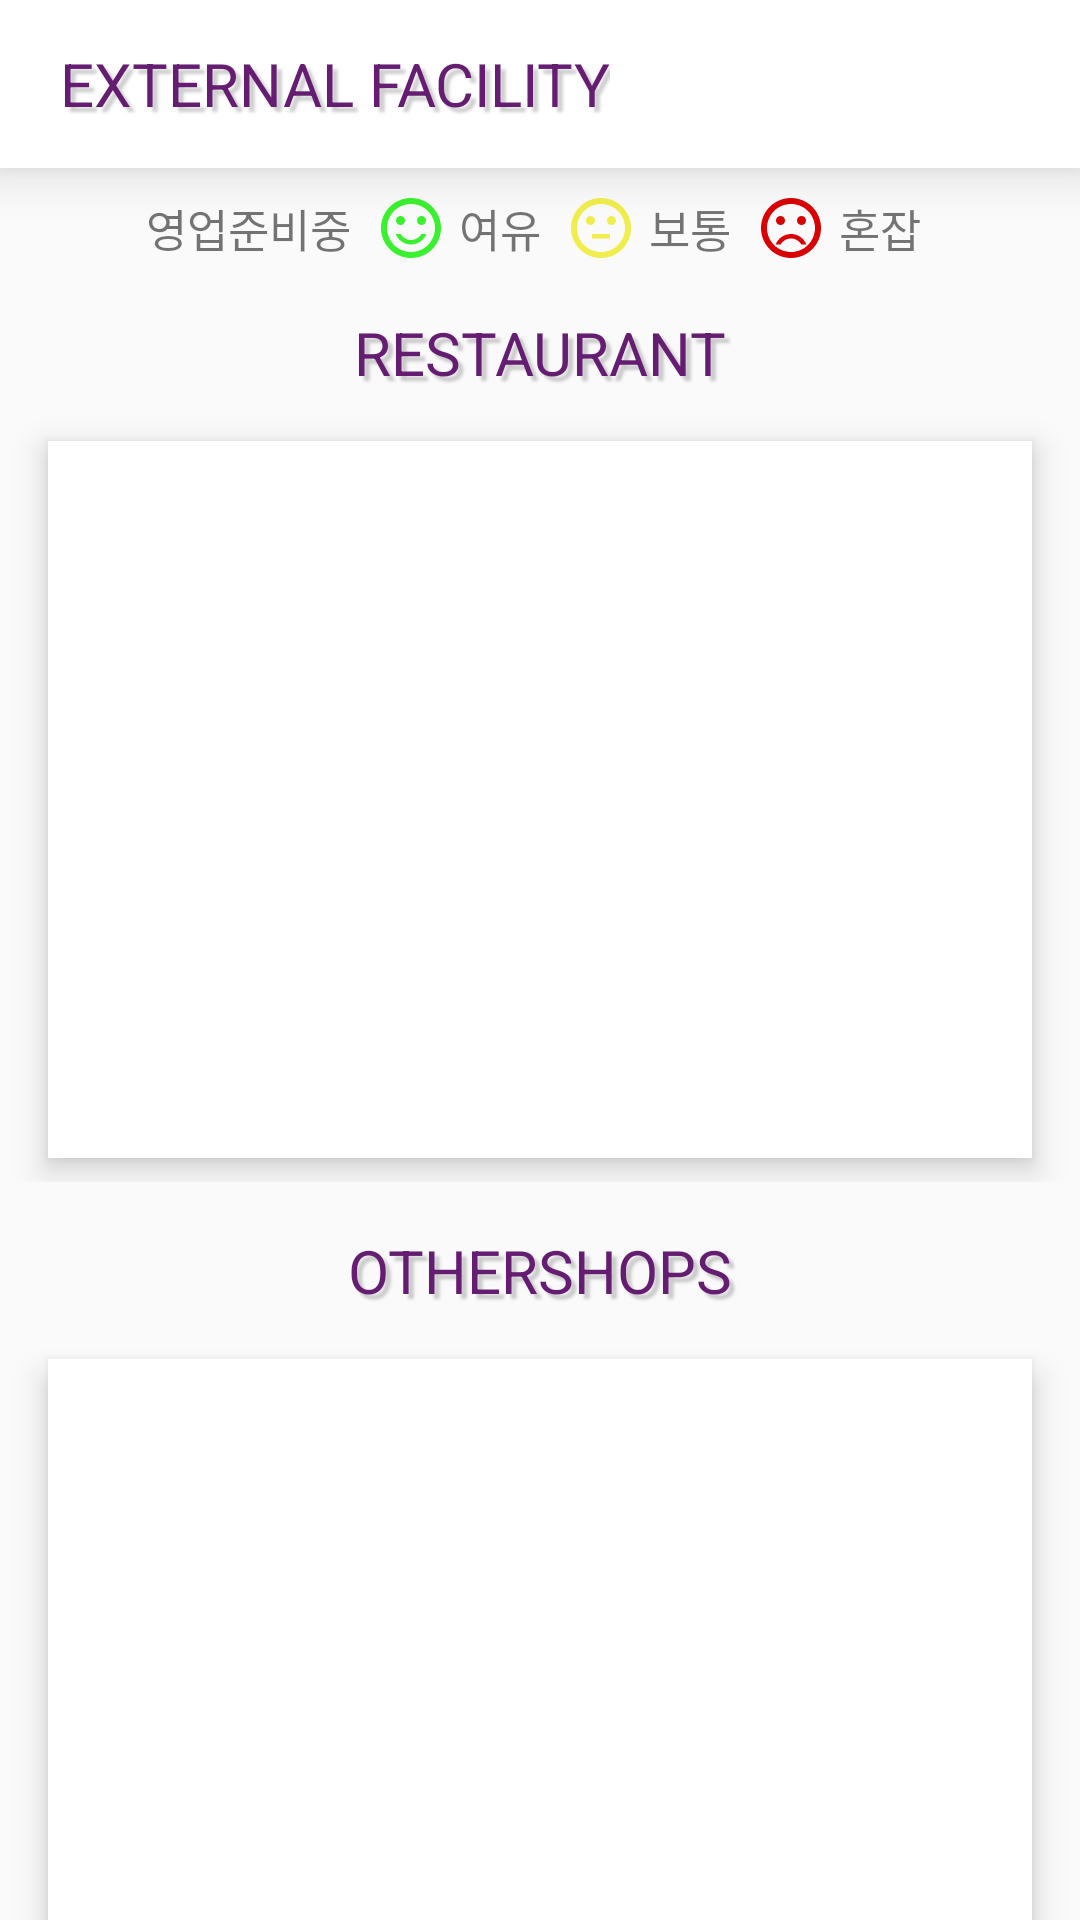

Named icons in this screenshot (1080x1920) and their bounding boxes, (x1,y1,x2,y2):
busy: (761,198,821,258)
relax: (381,198,441,258)
soso: (571,198,631,258)
